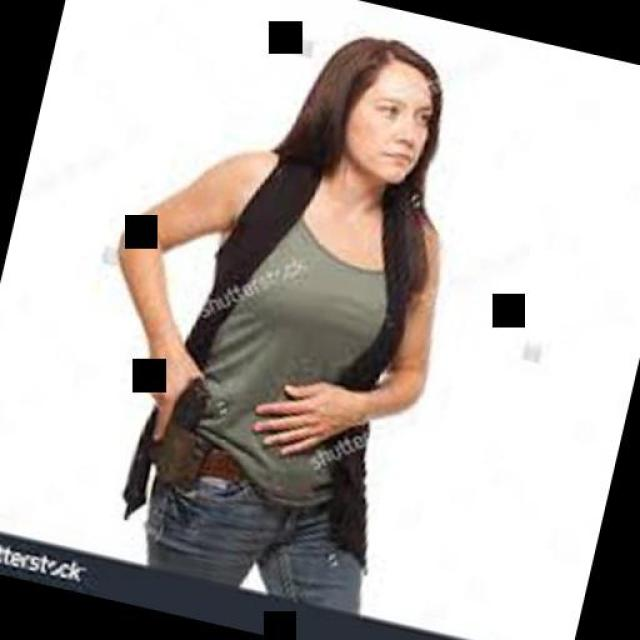gun: (108, 350, 220, 491)
